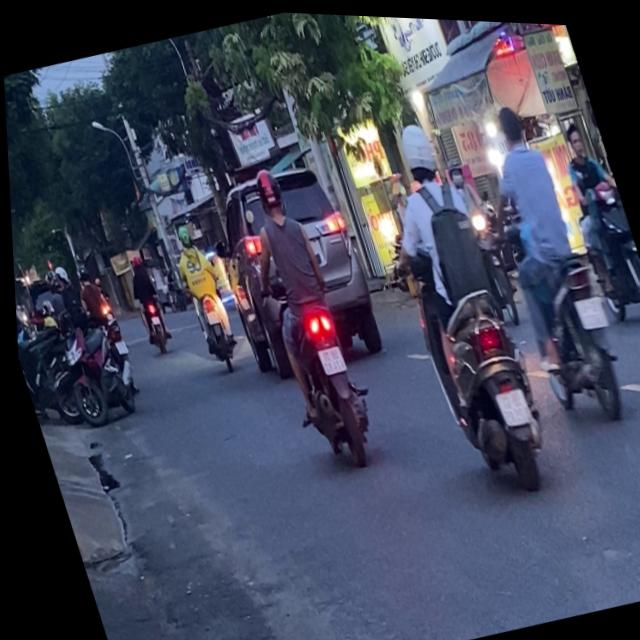helmet: (391, 112, 443, 184), (247, 160, 286, 217)
licenseplate: (353, 100, 564, 502), (458, 85, 636, 427), (221, 154, 382, 471), (542, 105, 640, 326)
motorcyclist: (491, 95, 529, 146), (559, 110, 587, 152)
nohelmet: (490, 381, 527, 421), (569, 288, 604, 325), (312, 339, 342, 371)
